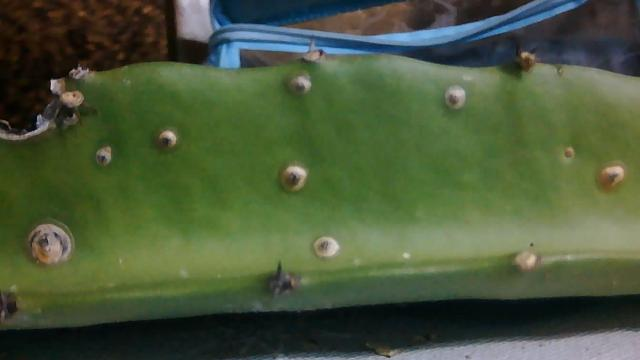stemcanker: (595, 161, 630, 194), (280, 161, 311, 194), (310, 234, 341, 261), (443, 82, 470, 112), (512, 247, 542, 274), (89, 142, 116, 170), (154, 123, 181, 151), (289, 72, 315, 96), (560, 141, 580, 166)
